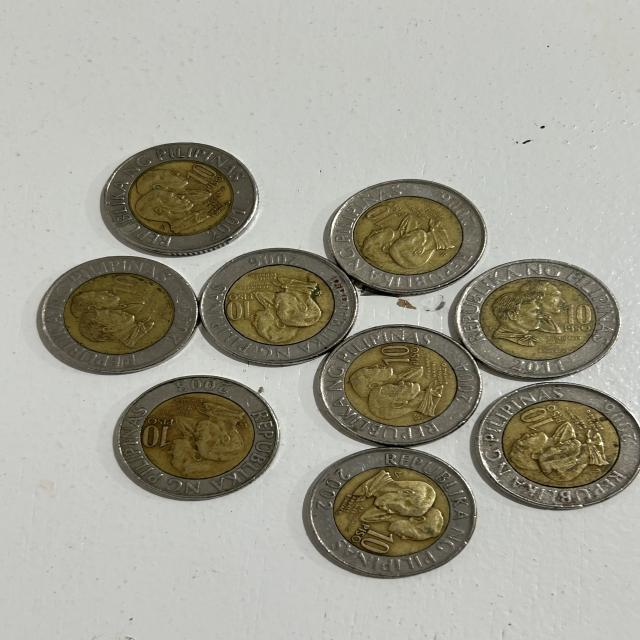10_Old_Front: (129, 405, 184, 458), (516, 393, 576, 436), (216, 286, 266, 326), (176, 154, 223, 191)
